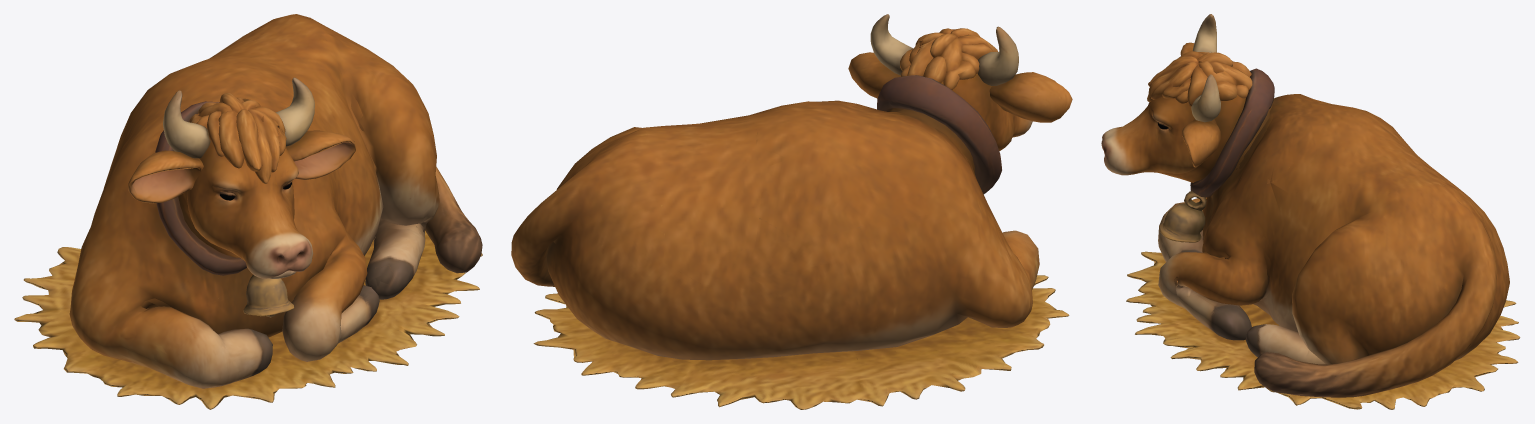
The model's file is vaca_rubia.glb.
3 views of the same model, side by side, from view 1: azimuth 30°, elevation 25°; view 2: azimuth 150°, elevation 25°; view 3: azimuth 270°, elevation 25° (orthographic). The views are drawn at different scales.
Visible parts, largest first — view 1: geometry_0; view 2: geometry_0; view 3: geometry_0.
Boxes of the visible parts, <box> form: geometry_0: <box>14,14,482,409</box>; geometry_0: <box>511,14,1072,409</box>; geometry_0: <box>1101,14,1520,409</box>.
Bounding box in the file's own units: 1 × 0.6356 × 0.9704.
1 material, 1 textured.
